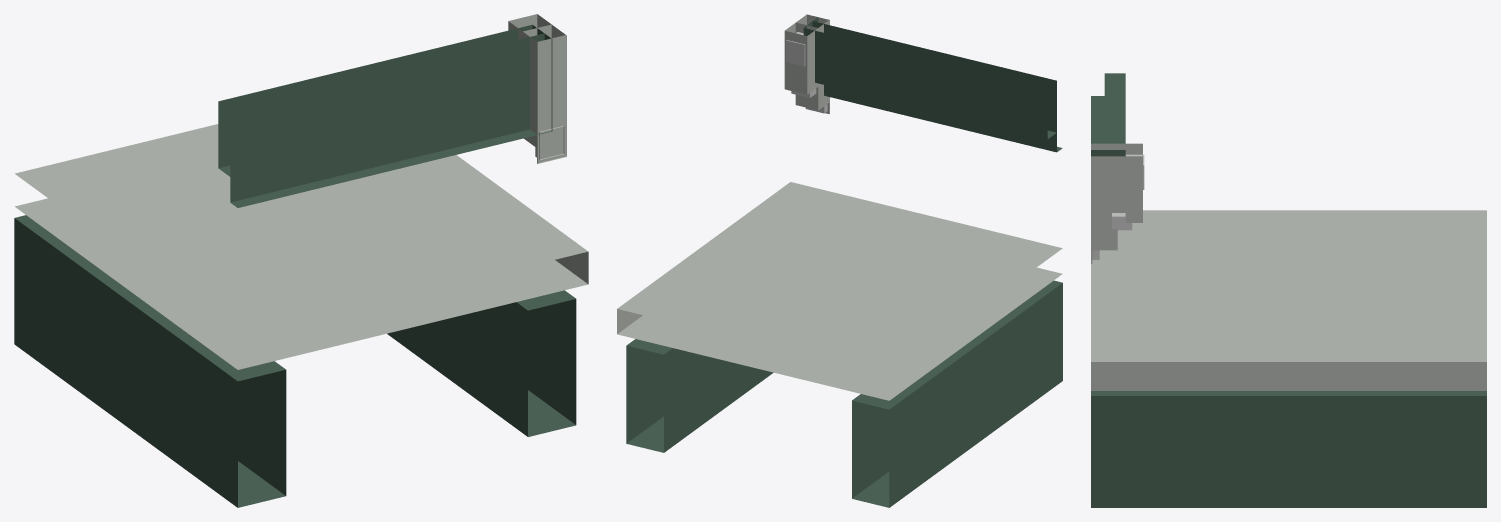
The model's file is cell_7.obj.
The picture shows the model from 3 angles, left to right: view 1: azimuth 30°, elevation 25°; view 2: azimuth 150°, elevation 25°; view 3: azimuth 270°, elevation 25°; orthographic projection. The views are drawn at different scales.
Size of the model in its own units: 0.9062 by 0.9688 by 1.
